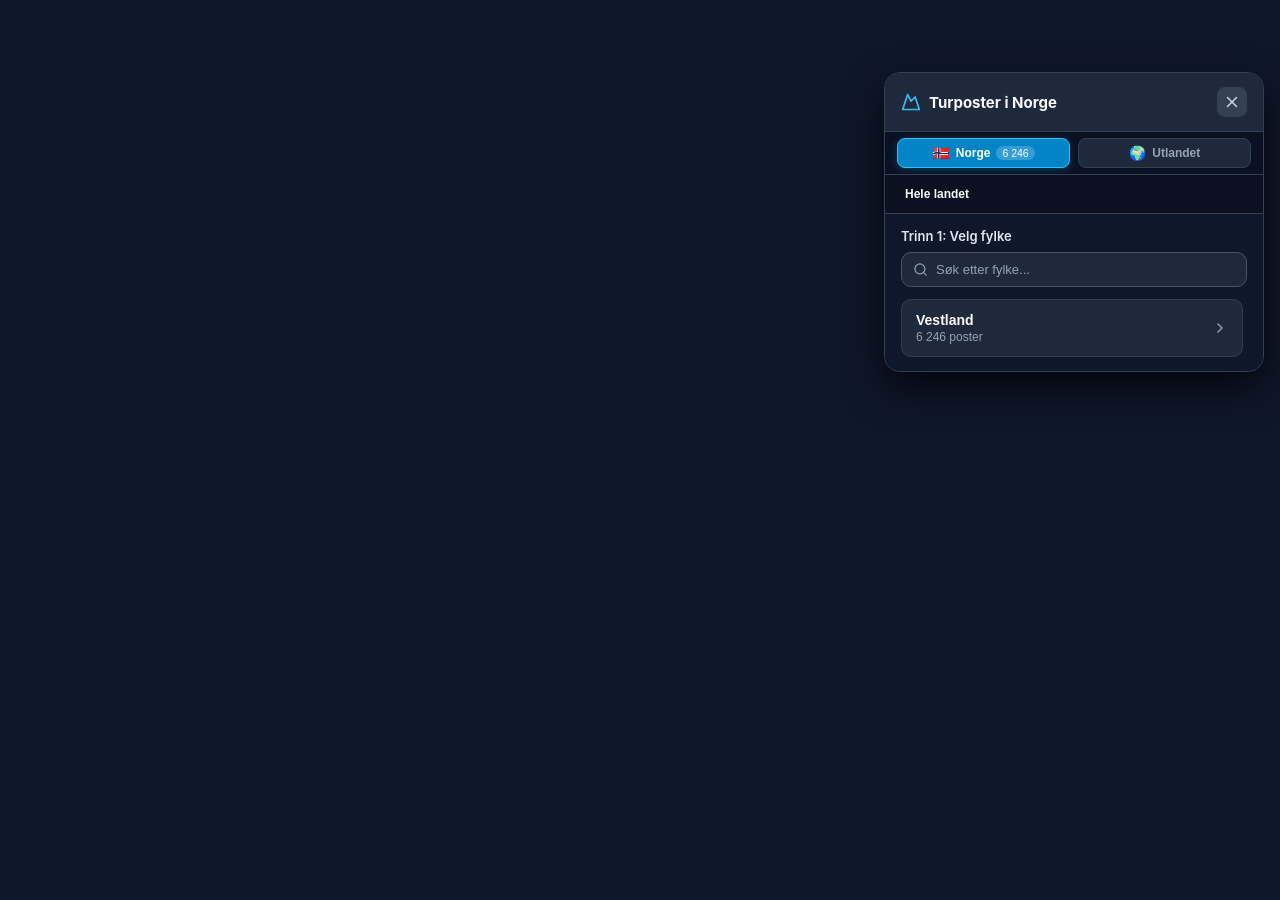
Test: TurposterPanel › handles region switching and empty state for Utlandet
Click the button with class "region-tab-btn" showing "🌍 Utlandet": (1164, 153) [1078,138,1251,168]
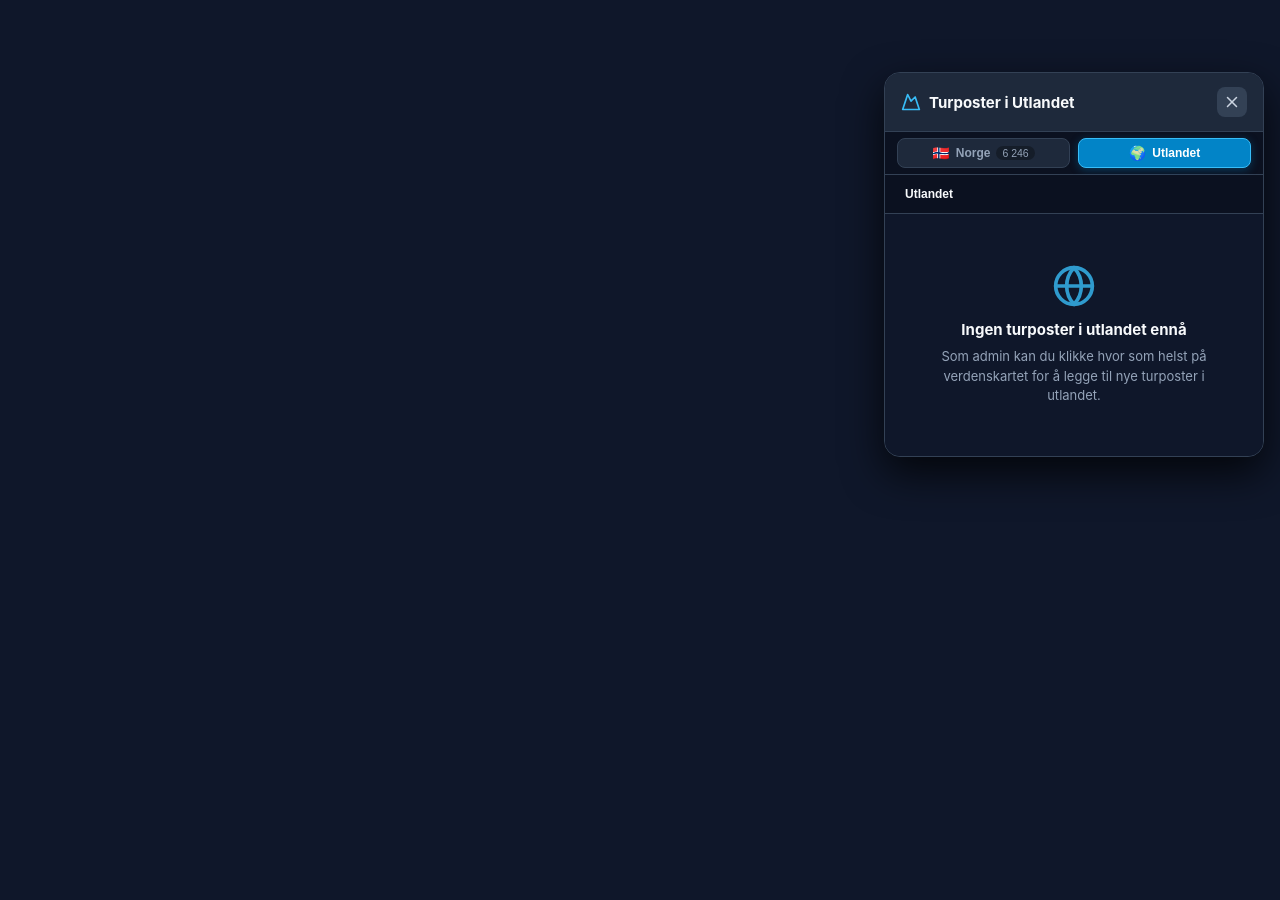
Now the text "Ingen turposter i utlandet ennå" is shown, box [961,320,1187,339]
